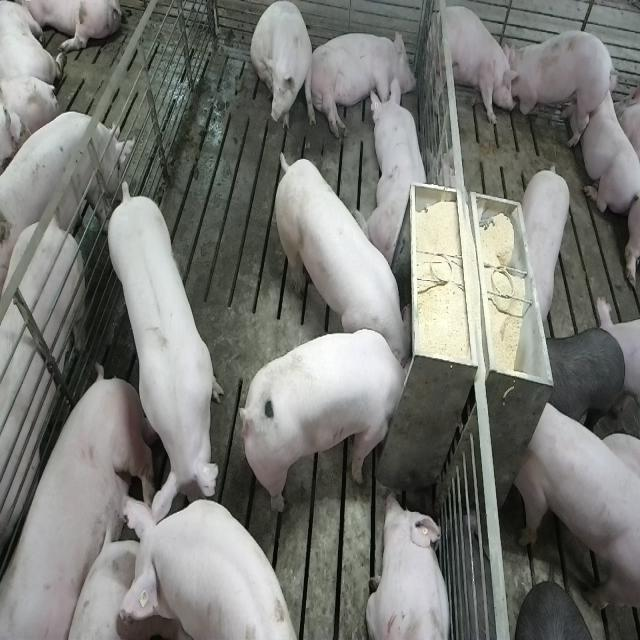Feeding: (245, 328, 417, 516), (272, 144, 411, 366)
Lateral_lying: (3, 365, 157, 640), (308, 26, 417, 140)
Sitting: (251, 2, 316, 138)
Standing: (106, 178, 225, 525), (0, 215, 88, 621), (113, 493, 296, 640), (514, 394, 638, 610), (0, 107, 129, 272), (508, 28, 615, 149), (431, 4, 518, 131), (521, 161, 574, 327), (545, 327, 627, 434)
Sternal_lying: (361, 76, 432, 264), (365, 490, 453, 640), (579, 78, 639, 216)
